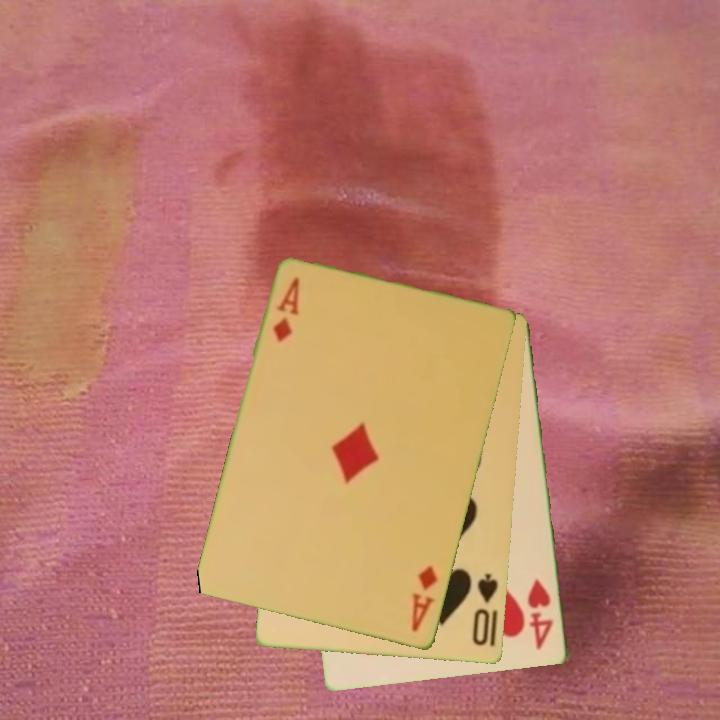10s: (469, 570, 501, 649)
4h: (525, 576, 557, 653)
Ad: (408, 562, 441, 636), (270, 274, 303, 346)
